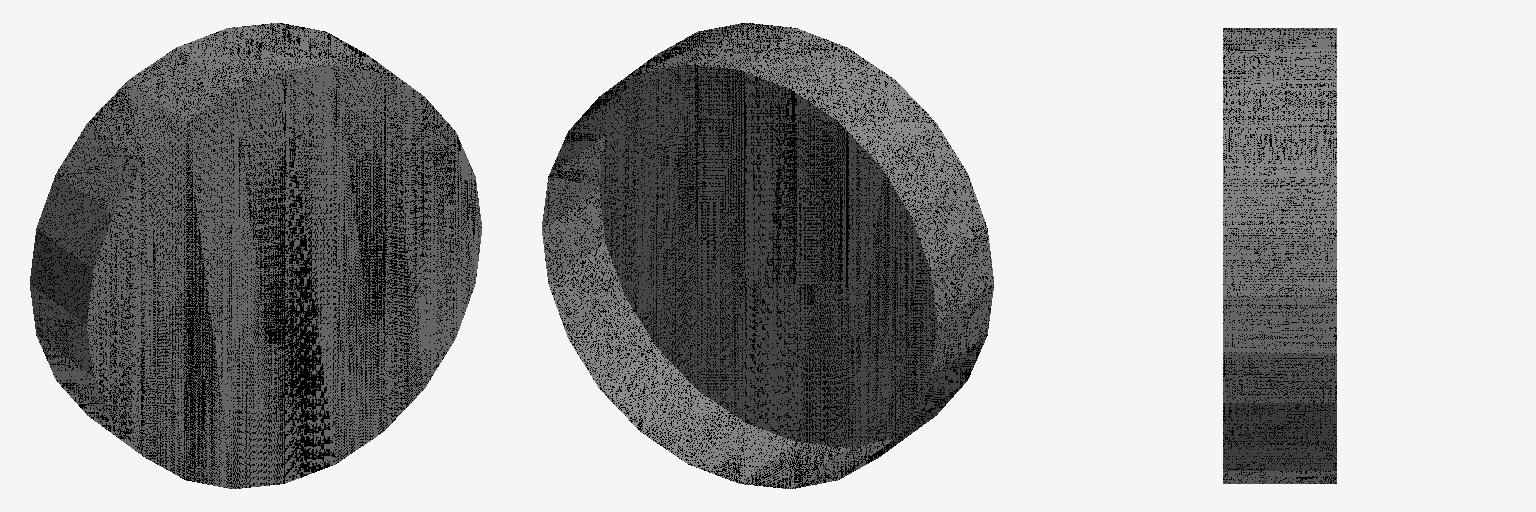
Rendered from original-127.obj.
The picture shows the model from 3 angles: view 1: azimuth 30°, elevation 25°; view 2: azimuth 150°, elevation 25°; view 3: azimuth 270°, elevation 25°; orthographic projection.
Parts seen in each view (by area): view 1: mesh109/mesh109-geometry/material_0/component_13#mesh109-geometr; view 2: mesh109/mesh109-geometry/material_0/component_13#mesh109-geometr; view 3: mesh109/mesh109-geometry/material_0/component_13#mesh109-geometr.
Part boxes in pixels (x1,y1,x2,y2): mesh109/mesh109-geometry/material_0/component_13#mesh109-geometr: (30,23,481,488); mesh109/mesh109-geometry/material_0/component_13#mesh109-geometr: (542,23,993,488); mesh109/mesh109-geometry/material_0/component_13#mesh109-geometr: (1223,28,1336,483).
Bounding box in the file's own units: 0.0695 × 0.0695 × 0.0174.